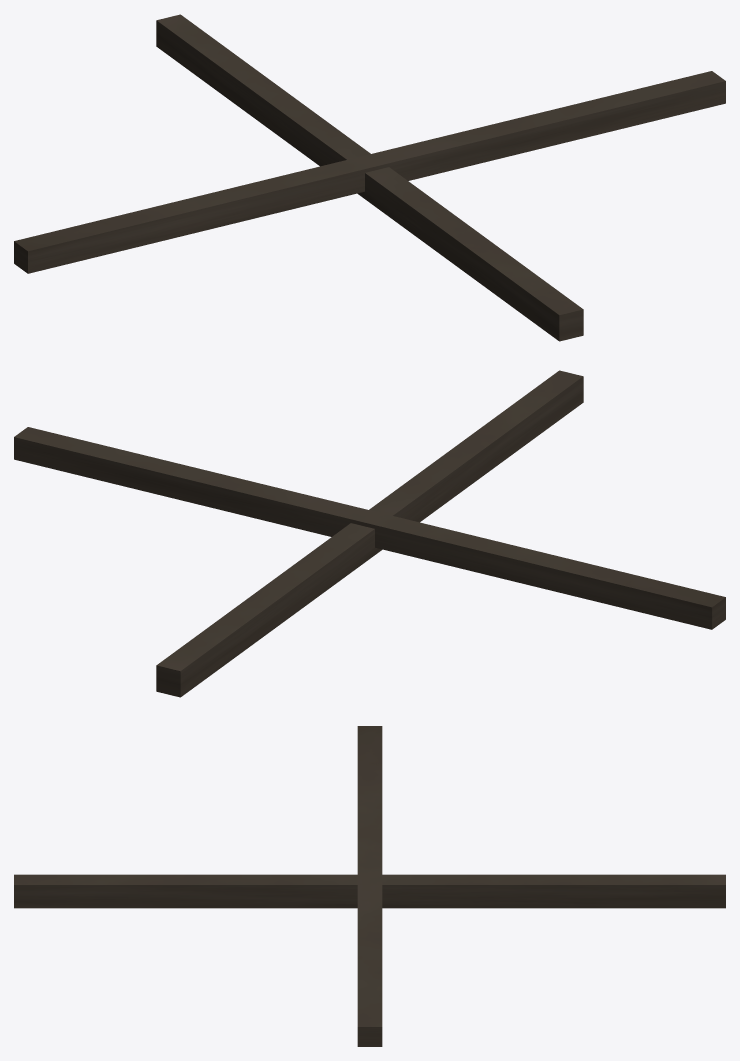
Rendered from dungeon_room_open_vault.glb.
3 views of the same model, one above another, from view 1: azimuth 30°, elevation 25°; view 2: azimuth 150°, elevation 25°; view 3: azimuth 270°, elevation 25° (orthographic). The views are drawn at different scales.
Visible parts, largest first — view 1: dungeon_room_open_vault; view 2: dungeon_room_open_vault; view 3: dungeon_room_open_vault.
Boxes of the visible parts, x1,y1,x2,y2 form: dungeon_room_open_vault: (14,14,725,341); dungeon_room_open_vault: (14,370,725,697); dungeon_room_open_vault: (14,726,725,1046).
Size of the model in its own units: 5.05 by 0.2074 by 5.05.
1 material, 1 textured.
